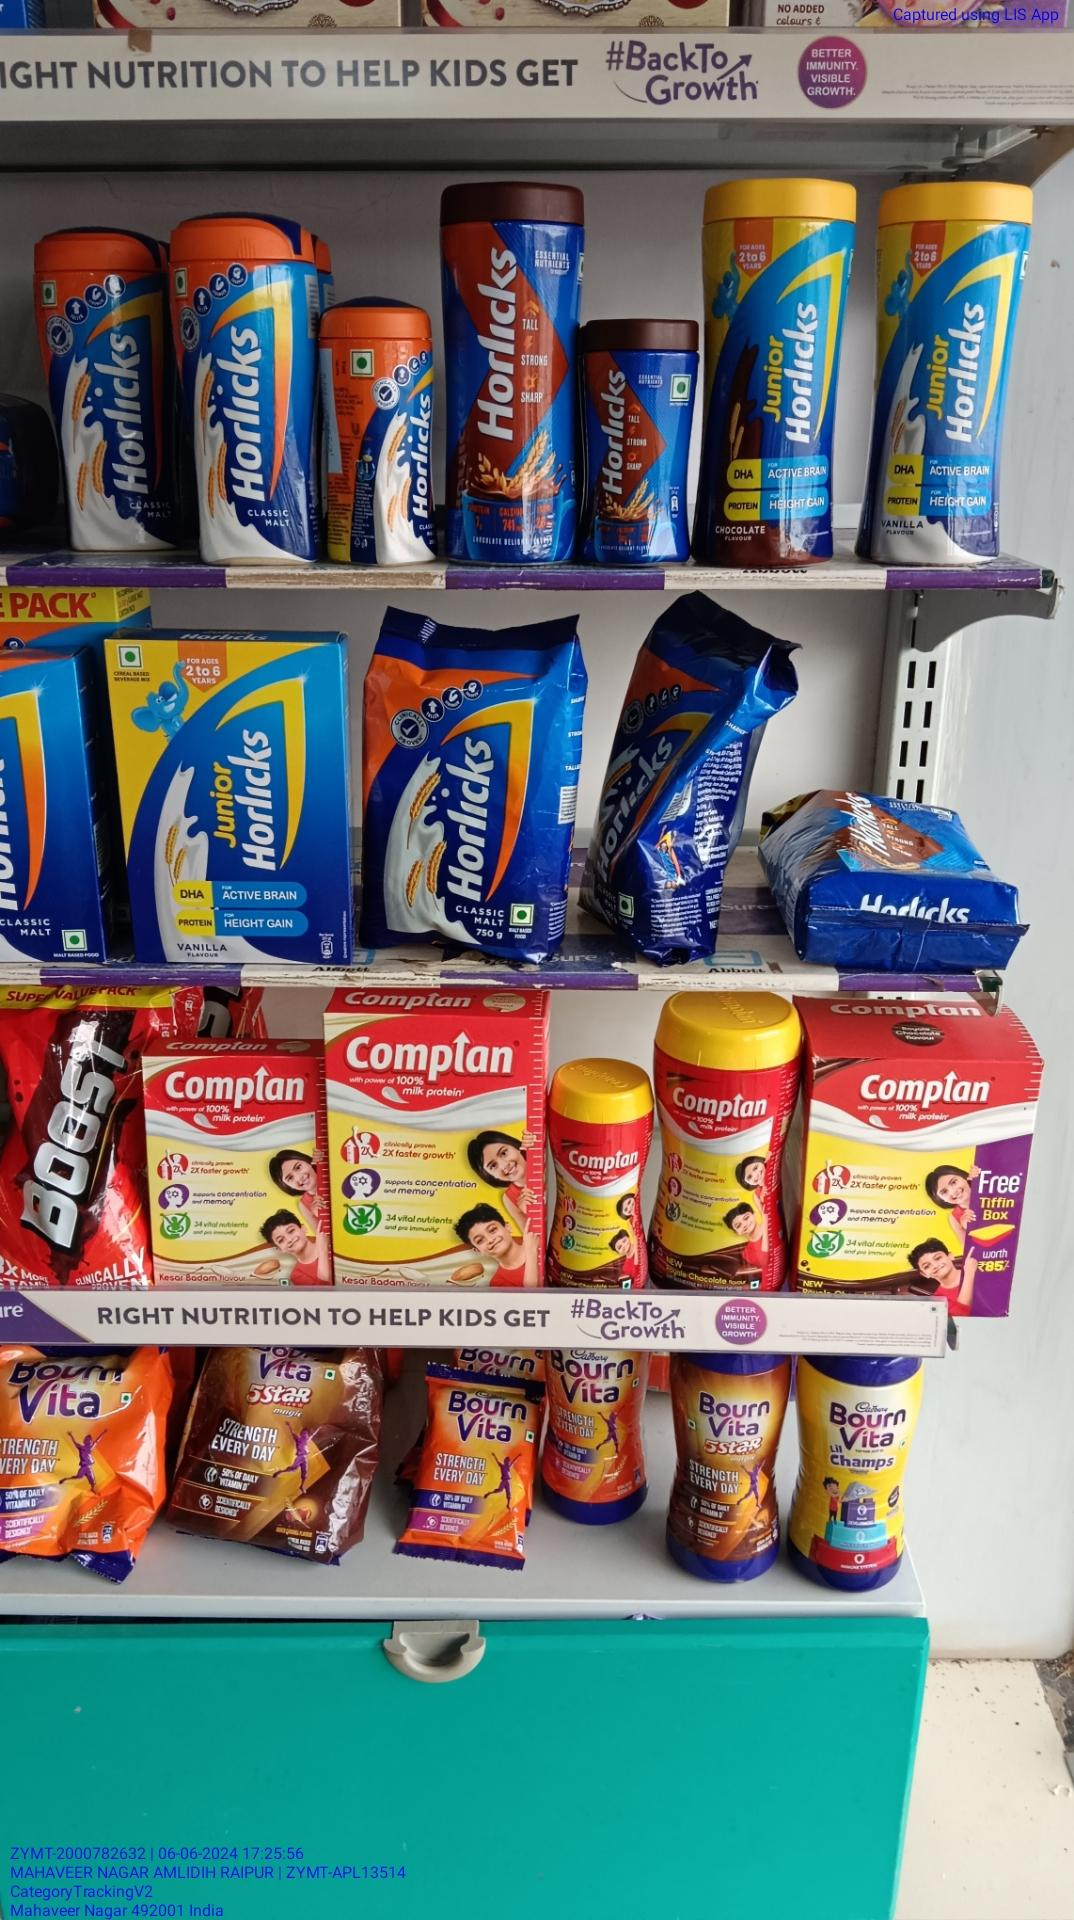BOURN_VITA_500_G_JAR: (414, 1371, 522, 1564), (545, 1348, 628, 1534)
BOURN_VITA_500_G_POUCH: (0, 1344, 145, 1586)
BOURN_VITA_CHAMPS_500_G_JAR: (806, 1346, 908, 1589)
BOURN_VITA_FIVE_STAR_MAGIC_500_G_JAR: (673, 1352, 788, 1584)
BOURN_VITA_FIVE_STAR_MAGIC_500_G_POUCH: (187, 1345, 372, 1565)
COMPLAN_CHOCOLATE_200_GMS_JAR: (545, 1084, 648, 1294)
COMPLAN_CHOCOLATE_500_GMS_JAR: (654, 1017, 781, 1299)
COMPLAN_CHOCOLATE_500_GMS_PACK: (806, 1058, 1032, 1317)
COMPLAN_KESAR_BADAM_500_GMS_PACK: (327, 1013, 538, 1273)
HORLICKS_JUNIOR_VANILLA_500_GM_JAR: (884, 169, 1015, 568)
HORLICK_CHOCOLATE_200_G_JAR: (583, 322, 695, 570)
HORLICK_CHOCOLATE_500_G_JAR: (443, 182, 579, 568)
HORLICK_CLASSIC_MALT_200_G_JAR: (325, 294, 439, 568)
HORLICK_CLASSIC_MALT_500_G_JAR: (172, 210, 302, 563), (40, 220, 165, 554)
HORLICK_CLASSIC_MALT_750_G_POUCH: (368, 612, 569, 942)
